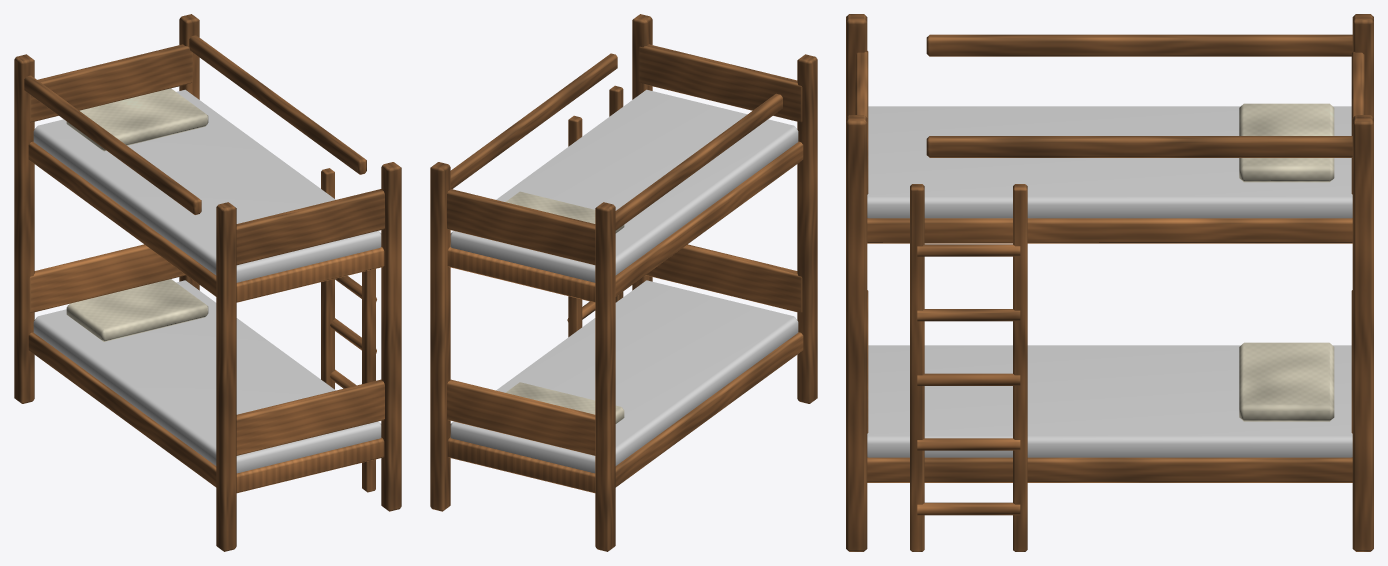
The model's file is Furn_Life_BunkBed.fbx.
3 views of the same model, side by side, from view 1: azimuth 30°, elevation 25°; view 2: azimuth 150°, elevation 25°; view 3: azimuth 270°, elevation 25° (orthographic). The views are drawn at different scales.
Visible parts, largest first — view 1: Furn_Life_BunkBed; view 2: Furn_Life_BunkBed; view 3: Furn_Life_BunkBed.
Part boxes in pixels (x1,y1,x2,y2): Furn_Life_BunkBed: [14, 14, 401, 551]; Furn_Life_BunkBed: [430, 14, 817, 551]; Furn_Life_BunkBed: [846, 14, 1373, 551].
Bounding box in the file's own units: 1 × 1.8 × 2.
Materials: 3 (2 with a texture image).
